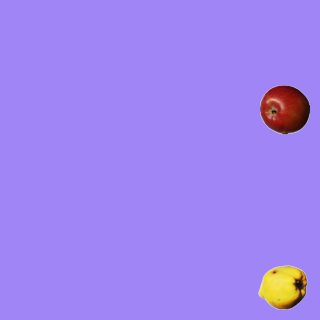Apple Braeburn: (259, 84, 309, 134)
Quince: (257, 262, 307, 312)
